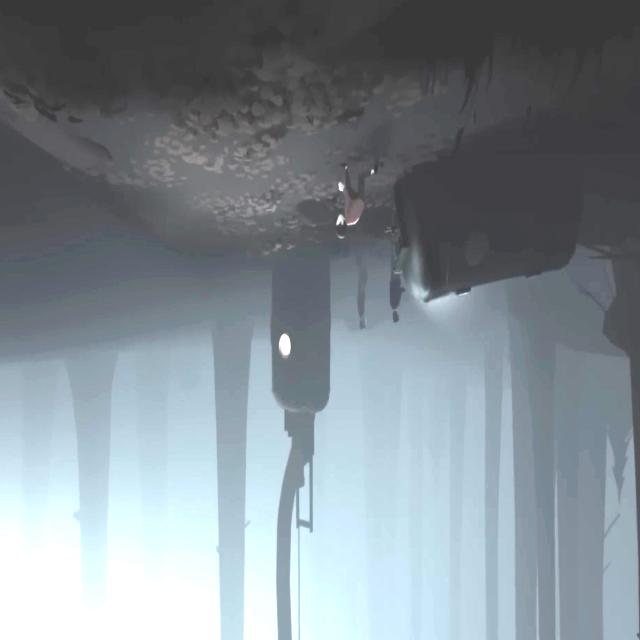boy: (336, 162, 378, 240)
human: (389, 235, 406, 323), (357, 250, 368, 330)
